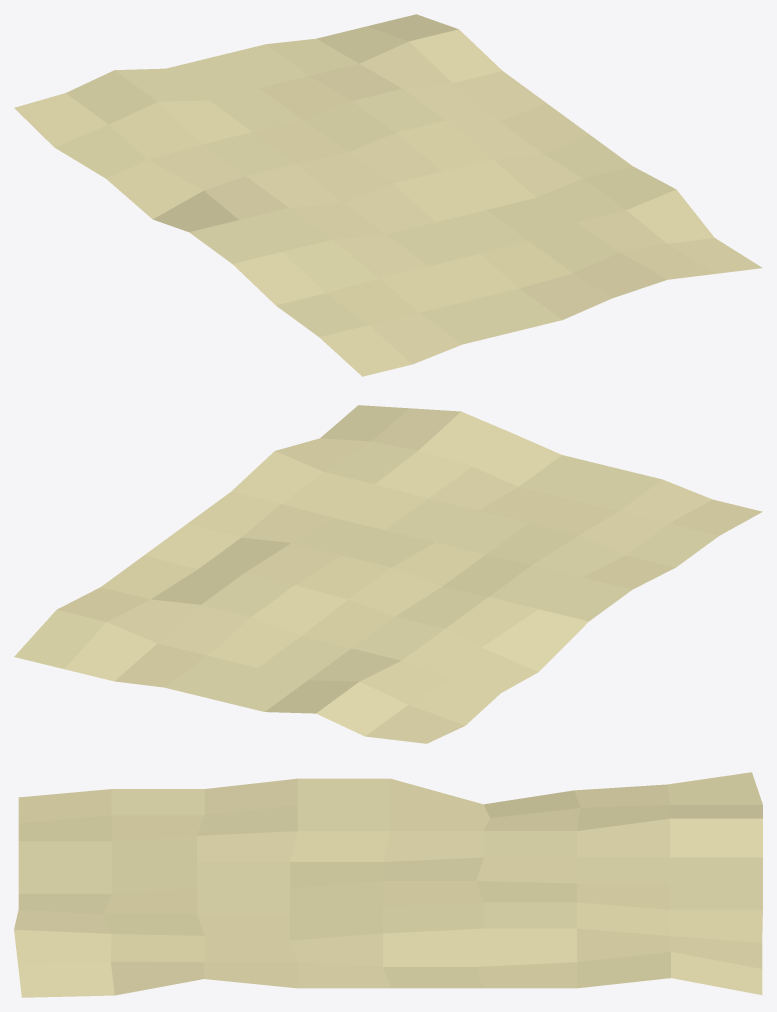
File: Note.fbx
3 renders of one model, top to bottom at view 1: azimuth 30°, elevation 25°; view 2: azimuth 150°, elevation 25°; view 3: azimuth 270°, elevation 25°, orthographic. The views are drawn at different scales.
Visible parts, largest first — view 1: Plane; view 2: Plane; view 3: Plane.
Part boxes in pixels (bbox=[...]): Plane: bbox=[14, 14, 762, 376]; Plane: bbox=[14, 405, 762, 743]; Plane: bbox=[14, 772, 762, 997].
Bounding box in the file's own units: 102 × 7.52 × 151.
